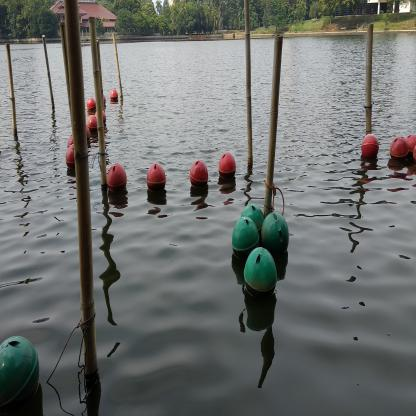green_buoy: (0, 330, 42, 408), (244, 248, 281, 303), (231, 215, 260, 267), (262, 210, 292, 258), (240, 199, 263, 227)
red_buoy: (388, 135, 411, 172), (107, 165, 130, 199), (146, 161, 167, 198), (217, 151, 238, 186), (361, 130, 381, 166), (190, 160, 210, 189), (64, 141, 78, 176), (87, 113, 100, 137), (110, 89, 120, 106), (88, 96, 96, 116)
